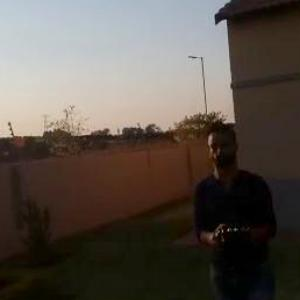follow: (191, 118, 285, 298)
